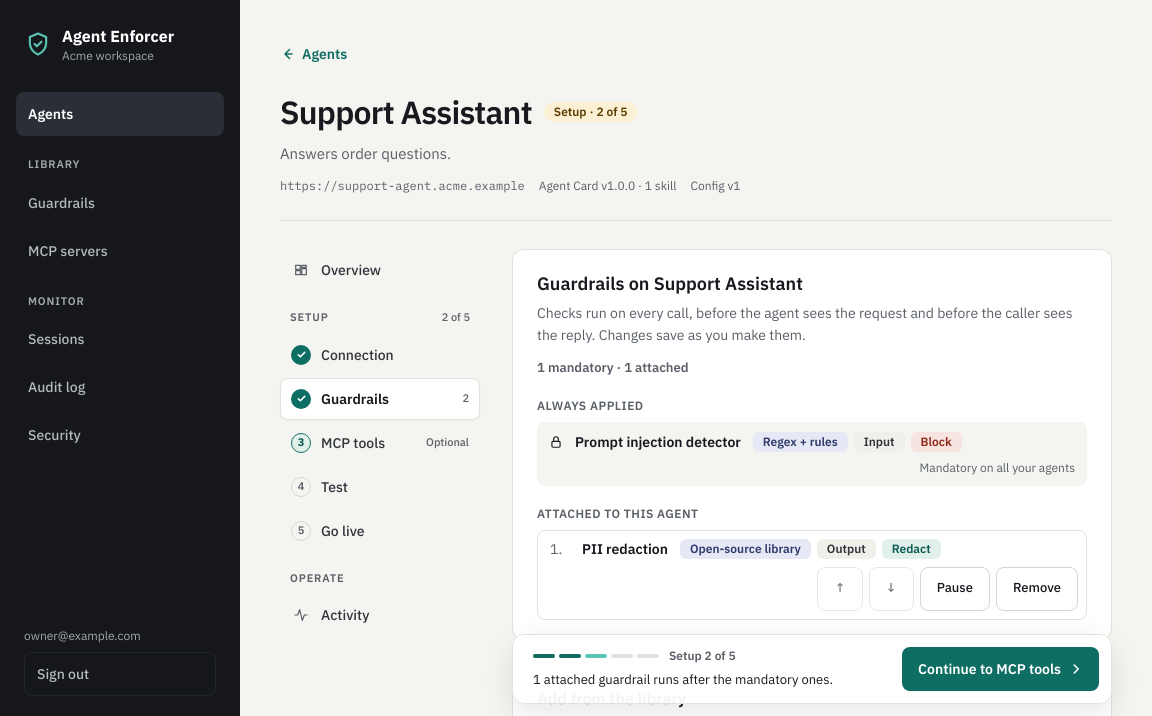
it: Agent guardrails step (bindings) › pauses and resumes a binding
expect the heading "Attached to this agent" is shown: met, box [537,506,699,520]
Click the button with aria-label "Pause PII redaction" at (955, 588), box [920,566,990,610]
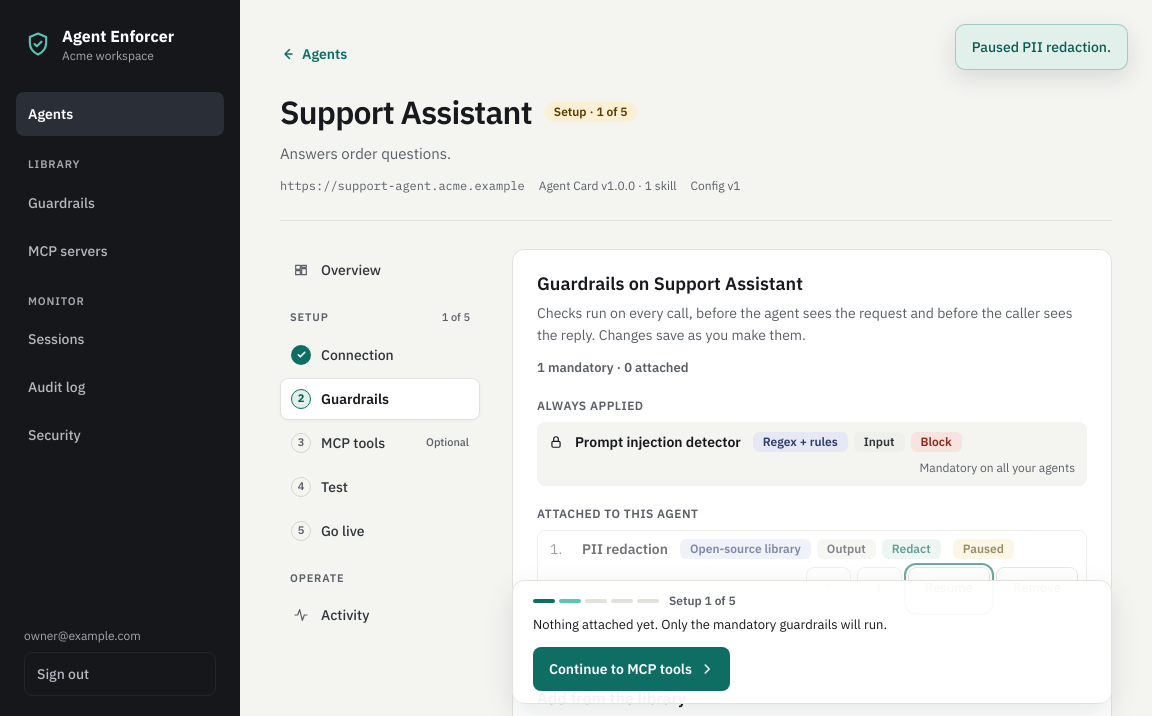
expect the button with aria-label "Resume PII redaction" is shown: met, box [908,566,990,610]
